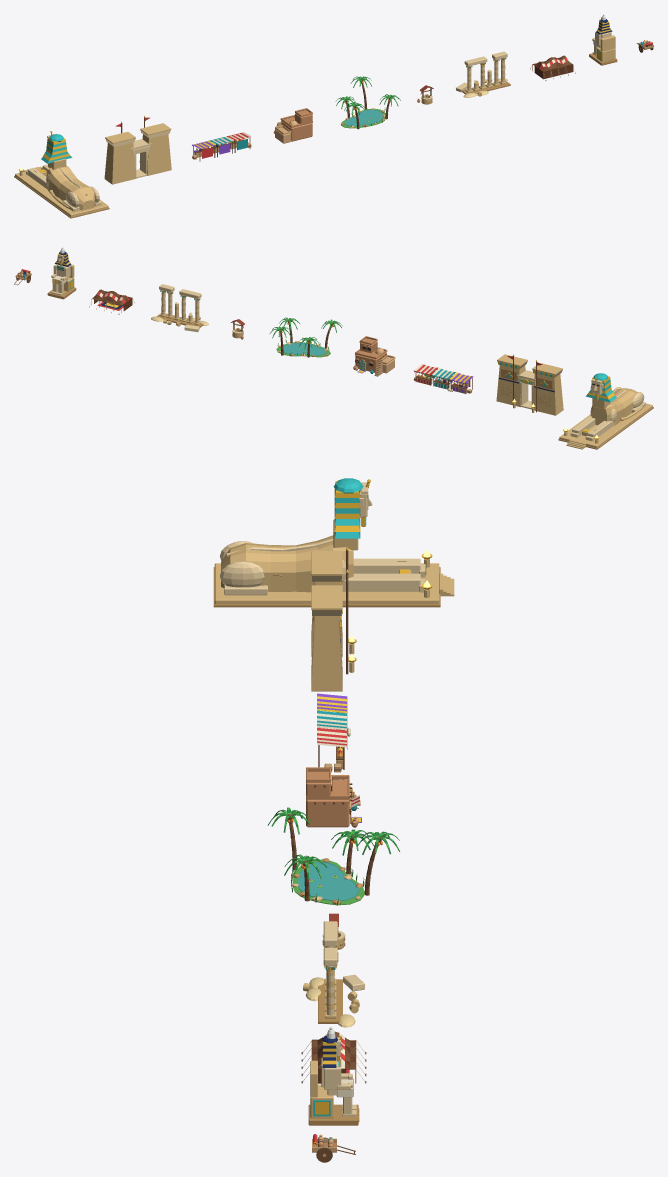
The model's file is PyramidDesert.fbx.
3 views of the same model, one above another, from view 1: azimuth 30°, elevation 25°; view 2: azimuth 150°, elevation 25°; view 3: azimuth 270°, elevation 25° (orthographic). The views are drawn at different scales.
Visible parts, largest first — view 1: TempleGate_Sandstone, Sphinx_Sandstone, Sphinx_SandstoneLight, MudBrickHouse_Adobe, TempleGate_SandstoneLight, Colonnade_SandstoneLight, OasisPool_Grass, BedouinTent_Chocolate, Colonnade_Sandstone, OasisPool_Water, PharaohStatue_Sandstone, Sphinx_Turquoise (+1 smaller); view 2: TempleGate_Sandstone, Sphinx_Sandstone, Sphinx_SandstoneLight, Colonnade_SandstoneLight, MudBrickHouse_Adobe, TempleGate_SandstoneLight, OasisPool_Grass, Colonnade_Sandstone, MudBrickHouse_AdobeLight, TempleGate_SandstoneDark, PharaohStatue_SandstoneLight, OasisPool_Water (+2 smaller); view 3: Sphinx_Sandstone, Sphinx_SandstoneLight, TempleGate_Sandstone, MudBrickHouse_Adobe, OasisPool_Grass, OasisPool_Water, Colonnade_SandstoneLight, PharaohStatue_SandstoneLight, Sphinx_Turquoise.
Part boxes in pixels (x1=…): TempleGate_Sandstone: x1=104, y1=123, x2=171, y2=184; Sphinx_Sandstone: x1=15, y1=158, x2=108, y2=216; Sphinx_SandstoneLight: x1=26, y1=134, x2=101, y2=211; MudBrickHouse_Adobe: x1=280, y1=108, x2=312, y2=141; TempleGate_SandstoneLight: x1=105, y1=130, x2=170, y2=178; Colonnade_SandstoneLight: x1=456, y1=51, x2=507, y2=92; OasisPool_Grass: x1=341, y1=107, x2=385, y2=128; BedouinTent_Chocolate: x1=532, y1=55, x2=573, y2=79; Colonnade_Sandstone: x1=465, y1=59, x2=506, y2=96; OasisPool_Water: x1=344, y1=109, x2=382, y2=126; PharaohStatue_Sandstone: x1=596, y1=35, x2=615, y2=62; Sphinx_Turquoise: x1=41, y1=134, x2=72, y2=163; TempleGate_Sandstone: x1=496, y1=354, x2=563, y2=415; Sphinx_Sandstone: x1=559, y1=388, x2=652, y2=449; Sphinx_SandstoneLight: x1=570, y1=379, x2=645, y2=441; Colonnade_SandstoneLight: x1=159, y1=284, x2=201, y2=332; MudBrickHouse_Adobe: x1=353, y1=336, x2=387, y2=372; TempleGate_SandstoneLight: x1=497, y1=361, x2=562, y2=409; OasisPool_Grass: x1=276, y1=339, x2=330, y2=357; Colonnade_Sandstone: x1=159, y1=292, x2=200, y2=326; MudBrickHouse_AdobeLight: x1=355, y1=345, x2=395, y2=376; TempleGate_SandstoneDark: x1=501, y1=368, x2=552, y2=406; PharaohStatue_SandstoneLight: x1=51, y1=254, x2=70, y2=295; OasisPool_Water: x1=280, y1=342, x2=326, y2=355; Sphinx_Sandstone: x1=214, y1=519, x2=454, y2=604; Sphinx_SandstoneLight: x1=220, y1=482, x2=425, y2=595; TempleGate_Sandstone: x1=311, y1=551, x2=354, y2=691; MudBrickHouse_Adobe: x1=306, y1=767, x2=357, y2=827; OasisPool_Grass: x1=291, y1=856, x2=365, y2=905; OasisPool_Water: x1=297, y1=862, x2=359, y2=900; Colonnade_SandstoneLight: x1=323, y1=921, x2=364, y2=1015; PharaohStatue_SandstoneLight: x1=321, y1=1037, x2=356, y2=1116; Sphinx_Turquoise: x1=333, y1=478, x2=368, y2=538.
Bounding box in the file's own units: 450 × 38.9 × 77.2.
